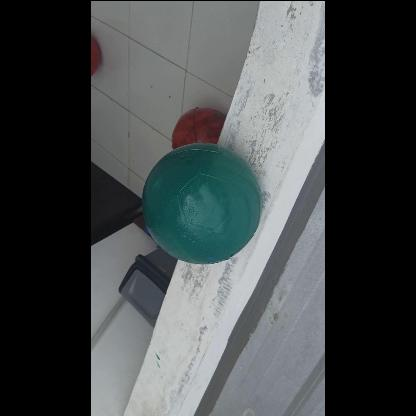green_ball: (141, 145, 261, 265)
